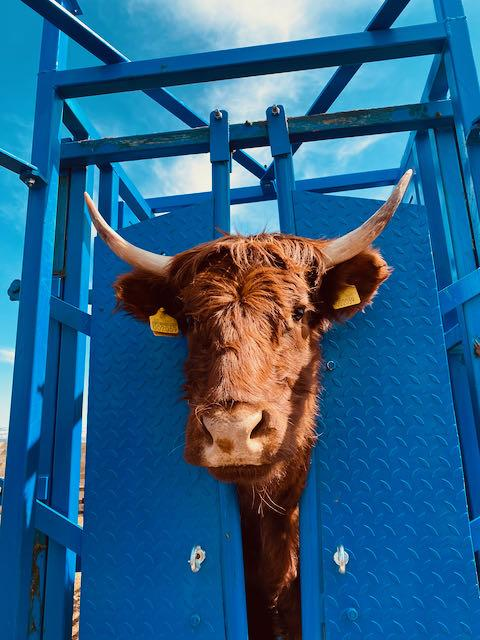muzzles: (177, 410, 288, 478)
